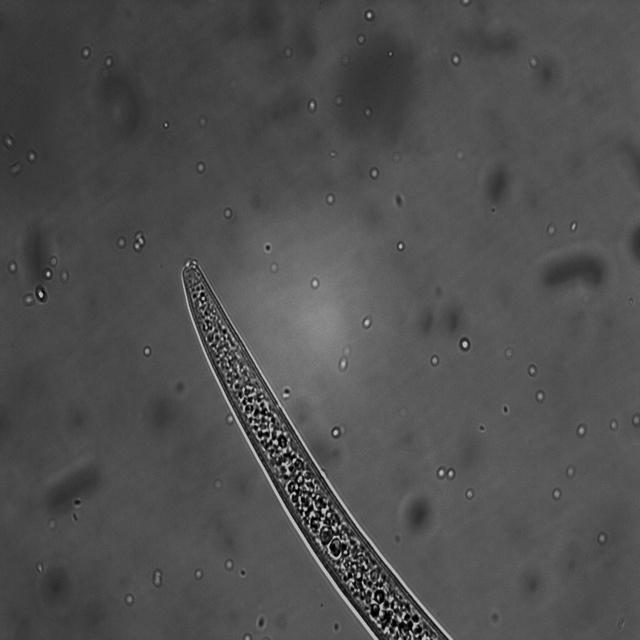Pratylenchus: (170, 260, 466, 640)
